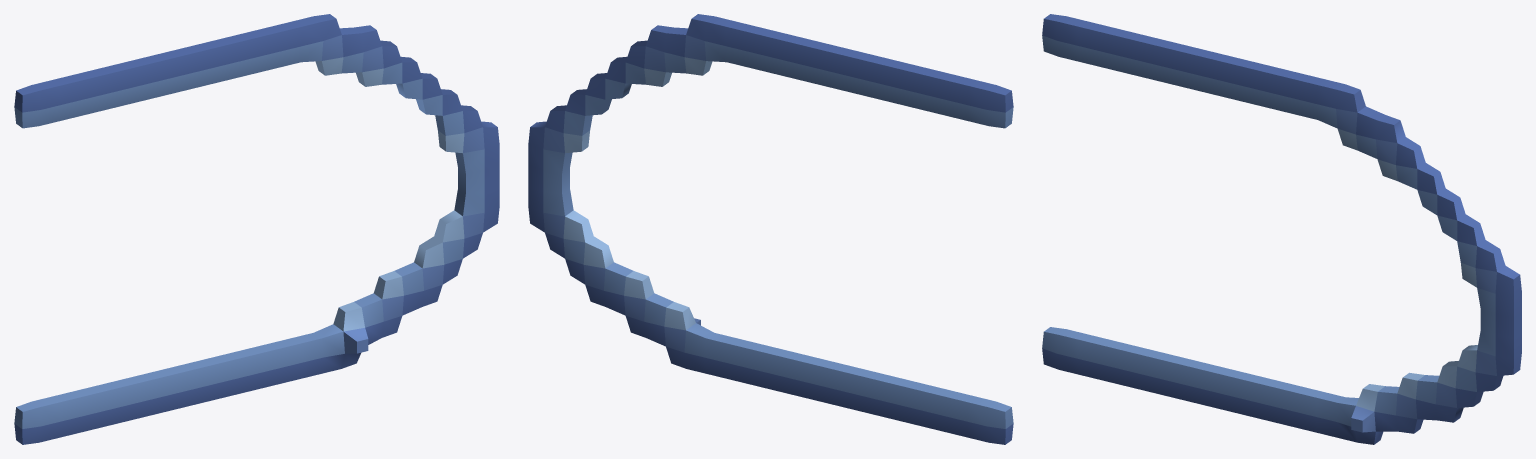
Rendered from Fight_739_2_16.obj.
3 renders of one model, left to right at view 1: azimuth 30°, elevation 25°; view 2: azimuth 150°, elevation 25°; view 3: azimuth 330°, elevation 25°, orthographic.
Size of the model in its own units: 2.37 by 1.67 by 0.1783.
